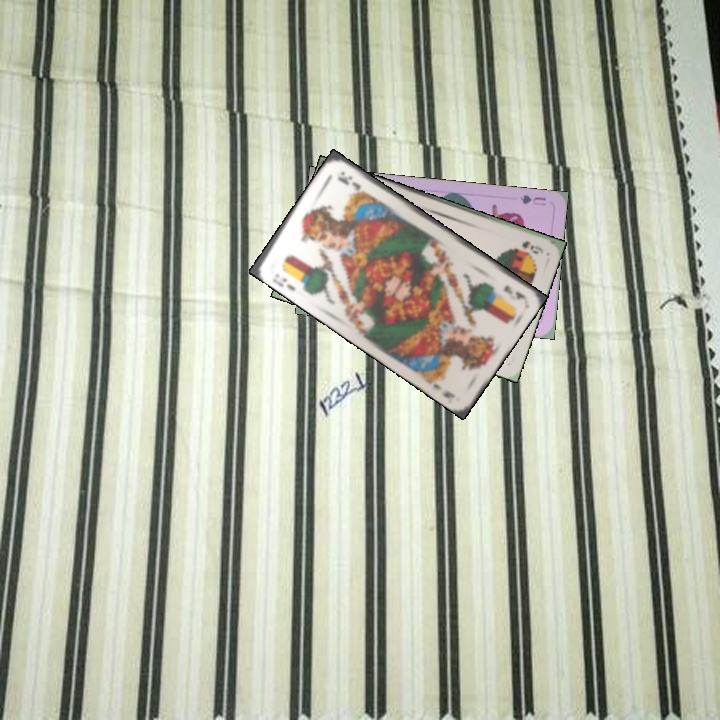EK: (271, 269, 298, 293), (499, 281, 527, 302)
GU: (516, 191, 548, 208)
SO: (518, 237, 546, 256)
